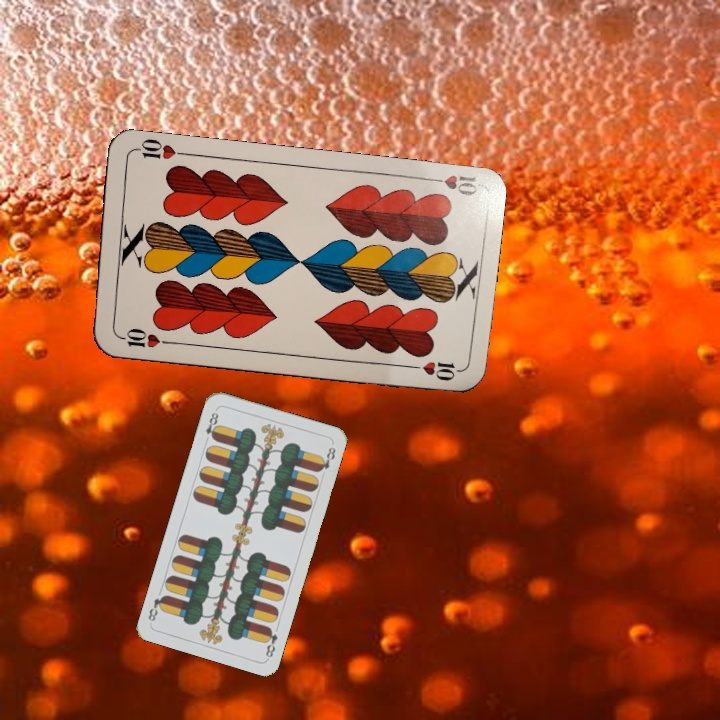E8: (201, 405, 221, 445), (261, 624, 280, 660)
H10: (113, 324, 173, 351), (422, 171, 480, 198)
